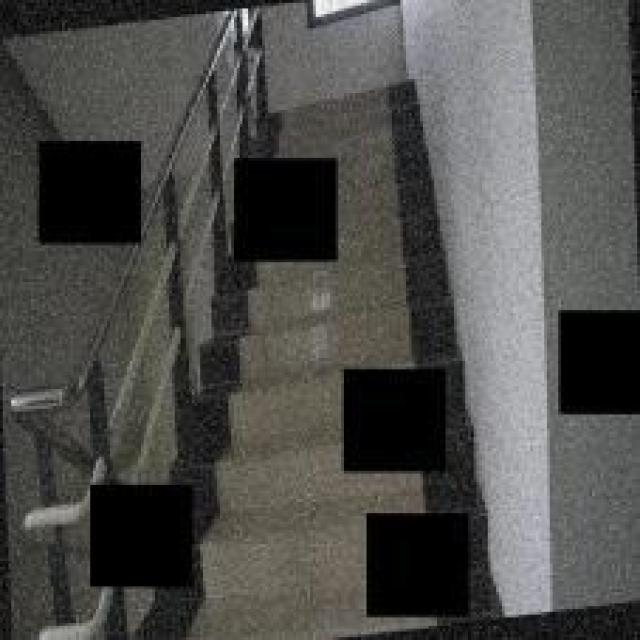upstair: (218, 291, 339, 593)
